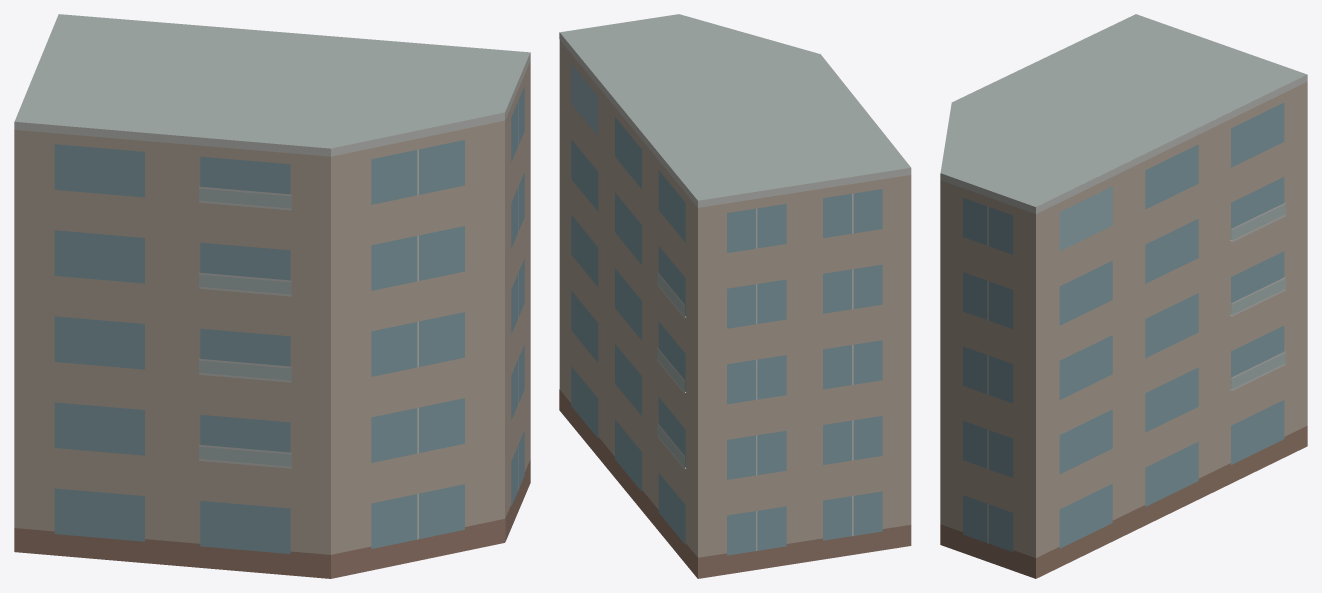
Rendered from survey-upis-32889842.glb.
The picture shows the model from 3 angles, left to right: view 1: azimuth 30°, elevation 25°; view 2: azimuth 150°, elevation 25°; view 3: azimuth 270°, elevation 25°; orthographic projection. The views are drawn at different scales.
Visible parts, largest first — view 1: survey-upis-32889842.tmp; view 2: survey-upis-32889842.tmp; view 3: survey-upis-32889842.tmp.
Part boxes in pixels (x1=…): survey-upis-32889842.tmp: x1=14, y1=14, x2=530, y2=578; survey-upis-32889842.tmp: x1=559, y1=14, x2=911, y2=578; survey-upis-32889842.tmp: x1=940, y1=14, x2=1307, y2=578.
Bounding box in the file's own units: 14.5 × 13 × 11.64.
